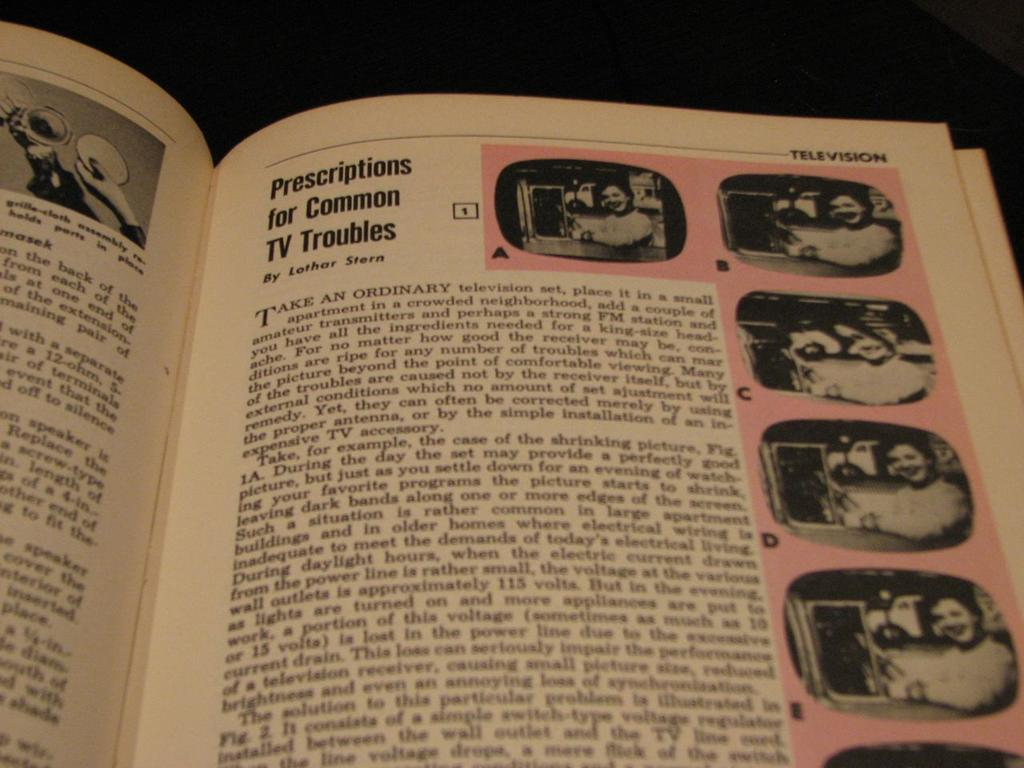Book: (16, 43, 1024, 753)
